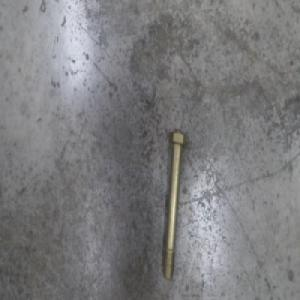Bolt: (161, 130, 187, 282)
